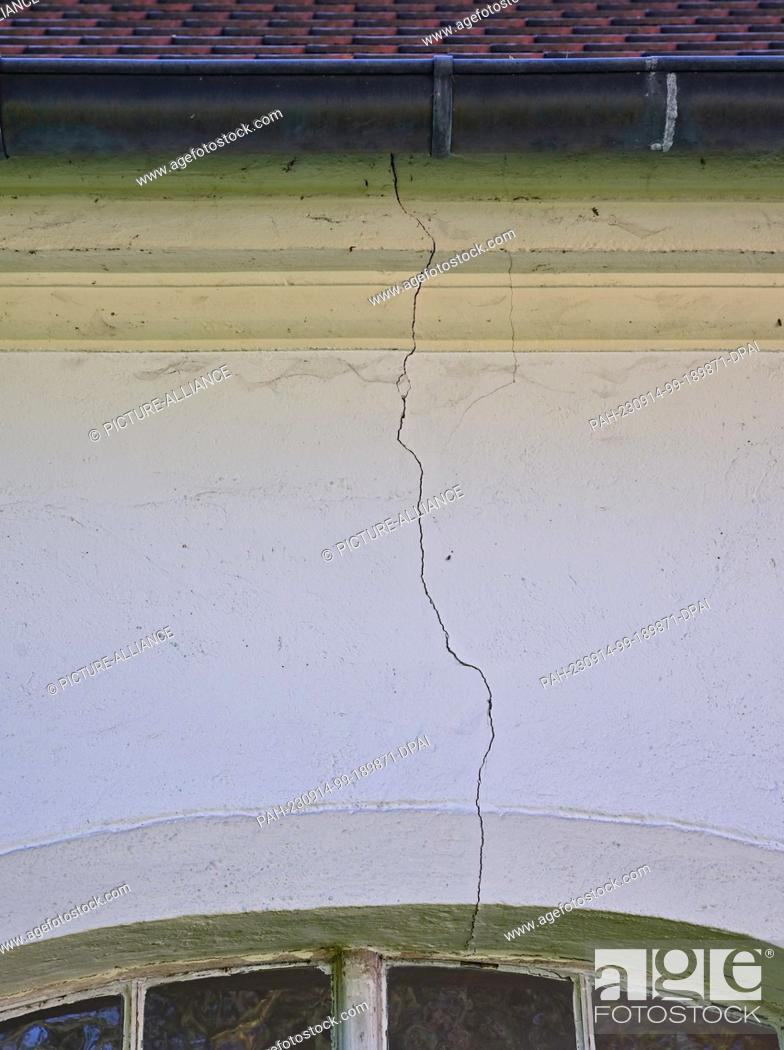crack: (418, 609, 509, 750), (386, 441, 455, 585), (367, 143, 446, 267), (384, 293, 441, 417), (457, 771, 507, 903)
